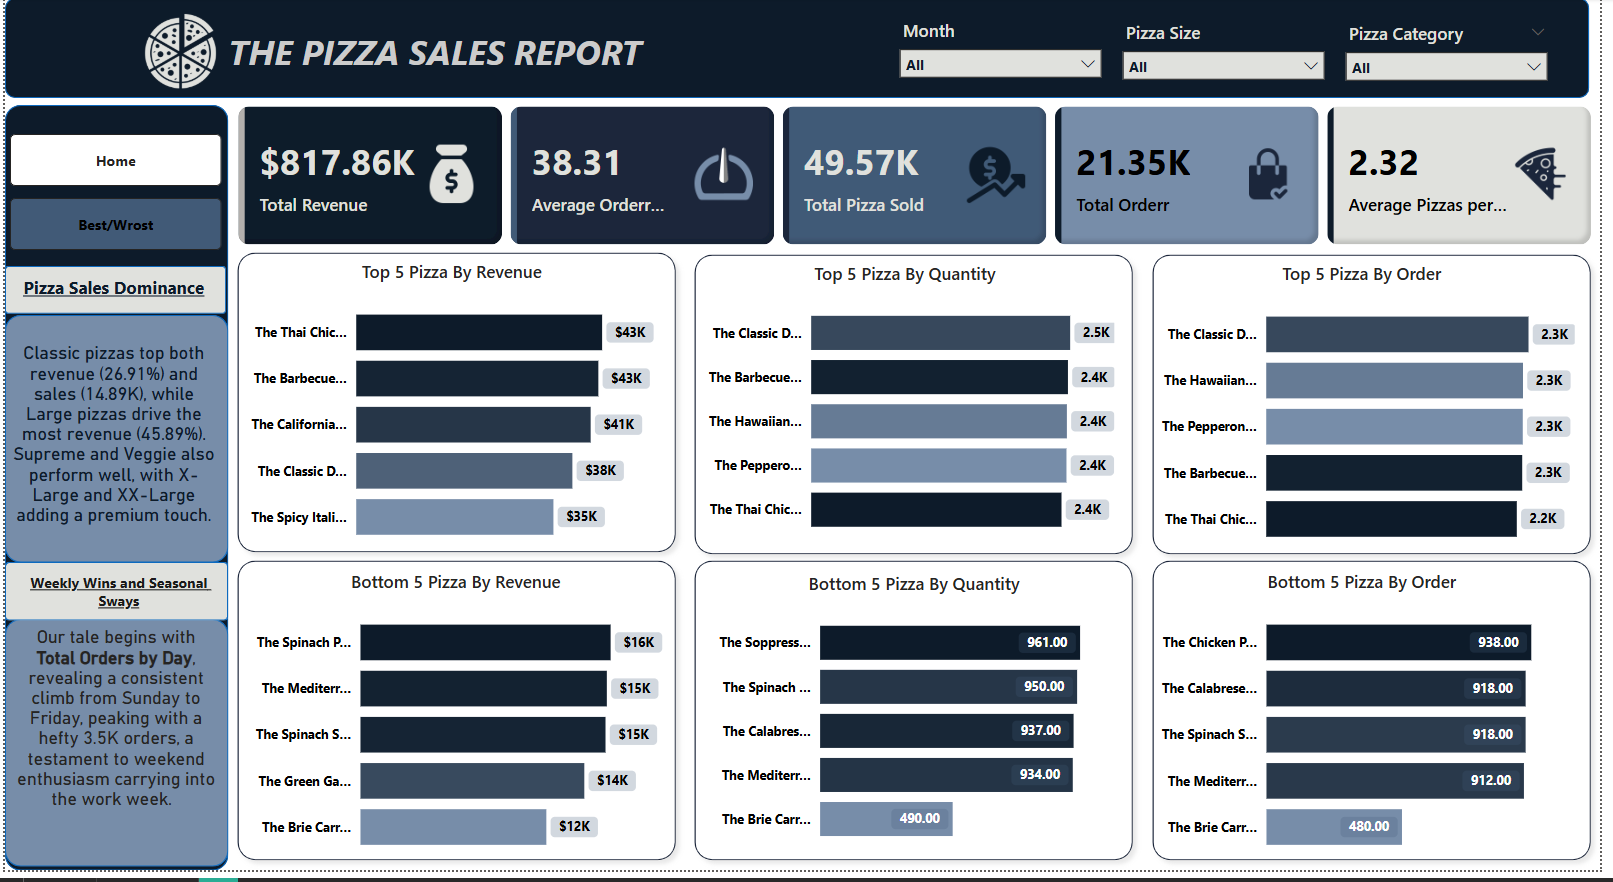

The dashboard page shown, as its layout file describes it:
{"tool":"powerbi","page":{"name":"Best/Wrost","canvas":[1500,820],"ordinal":1},"visuals":[{"type":"shape","box":[0,0,1490.7,94.1],"z":0},{"type":"shape","box":[0,252.2,210,45.5],"z":0,"group":"g1"},{"type":"shape","box":[0,298,209.9,232.6],"z":0,"group":"g2"},{"type":"shape","box":[0,530.3,209.9,55],"z":0,"group":"g4"},{"type":"shape","box":[0,584.1,209.9,232.6],"z":0,"group":"g3"},{"type":"shape","box":[0,100.3,209.9,719.5],"z":1000},{"type":"textbox","box":[0,257.4,204.7,35.1],"z":1000,"group":"g1"},{"type":"textbox","box":[0,318.7,204.7,214],"z":1000,"group":"g2"},{"type":"textbox","box":[5.2,536.2,204.7,48.6],"z":1000,"group":"g4"},{"type":"textbox","box":[5.2,586,199.5,227.4],"z":1000,"group":"g3"},{"type":"cardVisual","fields":{"Data":["Measures .Total Revenue","Measures .Average Orderr Value","Measures .Total Pizza Sold","Measures .Total Orderr","Measures .Average Pizzas per orderr"]},"box":[214,97.2,1286,140.6],"z":2000},{"type":"shape","box":[209.9,230.5,430,299.8],"z":3000},{"type":"textbox","box":[204.7,22.7,463.1,53.8],"z":4000},{"type":"slicer","fields":{"Values":["pizza_sales.pizza_category"]},"box":[1250.9,17.6,209.9,68.2],"z":5000},{"type":"slicer","fields":{"Values":["pizza_sales.pizza_size"]},"box":[1041,16.5,209.9,68.2],"z":8000},{"type":"slicer","fields":{"Values":["Date Table.Month Name"]},"box":[831.2,15.5,209.9,68.2],"z":9000},{"type":"image","box":[125.1,0,79.6,100.3],"z":10000},{"type":"group","id":"g1","title":"Group 9","box":[0,252.2,210,45.5],"z":11000},{"type":"group","id":"g2","title":"Group 9","box":[0,298,209.9,234.7],"z":13000},{"type":"group","id":"g3","title":"Group 9","box":[0,584.1,209.9,232.6],"z":14000},{"type":"group","id":"g4","title":"Group 9","box":[0,530.3,209.9,55],"z":15000},{"type":"shape","box":[209.9,520,430,299.8],"z":15001},{"type":"shape","box":[639.9,232.6,430,299.8],"z":15002},{"type":"shape","box":[1070,232.6,430,299.8],"z":15003},{"type":"shape","box":[639.9,520,430,299.8],"z":15004},{"type":"shape","box":[1070,520,430,299.8],"z":15005},{"type":"barChart","title":"Top 5 Pizza By Revenue","fields":{"Y":["Measures .Total Revenue"],"Category":["pizza_sales.pizza_name"]},"box":[214,246,411.4,282.2],"z":15006},{"type":"barChart","title":"Top 5 Pizza By Quantity","fields":{"Category":["pizza_sales.pizza_name"],"Y":["Measures .Total Pizza Sold"]},"box":[644,248.1,404.2,271.9],"z":15007},{"type":"barChart","title":"Top 5 Pizza By Order","fields":{"Category":["pizza_sales.pizza_name"],"Y":["Measures .Total Orderr"]},"box":[1070,248.1,411.4,282.2],"z":15008},{"type":"barChart","title":"Bottom 5 Pizza By Revenue","fields":{"Y":["Measures .Total Revenue"],"Category":["pizza_sales.pizza_name"]},"box":[218.6,537.8,411.5,281.8],"z":15009},{"type":"barChart","title":"Bottom 5 Pizza By Quantity","fields":{"Category":["pizza_sales.pizza_name"],"Y":["Measures .Total Pizza Sold"]},"box":[652.4,540.1,404.5,271.2],"z":15010},{"type":"barChart","title":"Bottom 5 Pizza By Order","fields":{"Category":["pizza_sales.pizza_name"],"Y":["Measures .Total Orderr"]},"box":[1069.8,537.8,411.5,281.8],"z":15011},{"type":"pageNavigator","box":[5.2,188.1,199.5,49.6],"z":15012},{"type":"pageNavigator","box":[5.2,128.2,199.5,49.6],"z":15013}]}

Visuals, with their boxes in screenshot pixels (x1, y1, x2, y2), scaled from the page's 1500x820 canvas onto the 1613x882 screenshot:
shape: pyautogui.locateOnScreen(0, 0, 1603, 101)
shape: pyautogui.locateOnScreen(0, 271, 226, 320)
shape: pyautogui.locateOnScreen(0, 321, 226, 571)
shape: pyautogui.locateOnScreen(0, 570, 226, 630)
shape: pyautogui.locateOnScreen(0, 628, 226, 878)
shape: pyautogui.locateOnScreen(0, 108, 226, 881)
textbox: pyautogui.locateOnScreen(0, 277, 220, 315)
textbox: pyautogui.locateOnScreen(0, 343, 220, 573)
textbox: pyautogui.locateOnScreen(6, 577, 226, 629)
textbox: pyautogui.locateOnScreen(6, 630, 220, 875)
cardVisual - Measures .Total Revenue x Measures .Average Orderr Value: pyautogui.locateOnScreen(230, 105, 1612, 256)
shape: pyautogui.locateOnScreen(226, 248, 688, 570)
textbox: pyautogui.locateOnScreen(220, 24, 718, 82)
slicer - pizza_sales.pizza_category: pyautogui.locateOnScreen(1345, 19, 1571, 92)
slicer - pizza_sales.pizza_size: pyautogui.locateOnScreen(1119, 18, 1345, 91)
slicer - Date Table.Month Name: pyautogui.locateOnScreen(894, 17, 1120, 90)
image: pyautogui.locateOnScreen(135, 0, 220, 108)
"Group 9" group: pyautogui.locateOnScreen(0, 271, 226, 320)
"Group 9" group: pyautogui.locateOnScreen(0, 321, 226, 573)
"Group 9" group: pyautogui.locateOnScreen(0, 628, 226, 878)
"Group 9" group: pyautogui.locateOnScreen(0, 570, 226, 630)
shape: pyautogui.locateOnScreen(226, 559, 688, 881)
shape: pyautogui.locateOnScreen(688, 250, 1150, 573)
shape: pyautogui.locateOnScreen(1151, 250, 1612, 573)
shape: pyautogui.locateOnScreen(688, 559, 1150, 881)
shape: pyautogui.locateOnScreen(1151, 559, 1612, 881)
"Top 5 Pizza By Revenue" barChart: pyautogui.locateOnScreen(230, 265, 673, 568)
"Top 5 Pizza By Quantity" barChart: pyautogui.locateOnScreen(693, 267, 1127, 559)
"Top 5 Pizza By Order" barChart: pyautogui.locateOnScreen(1151, 267, 1593, 570)
"Bottom 5 Pizza By Revenue" barChart: pyautogui.locateOnScreen(235, 578, 678, 881)
"Bottom 5 Pizza By Quantity" barChart: pyautogui.locateOnScreen(702, 581, 1137, 873)
"Bottom 5 Pizza By Order" barChart: pyautogui.locateOnScreen(1150, 578, 1593, 881)
pageNavigator: pyautogui.locateOnScreen(6, 202, 220, 256)
pageNavigator: pyautogui.locateOnScreen(6, 138, 220, 191)
